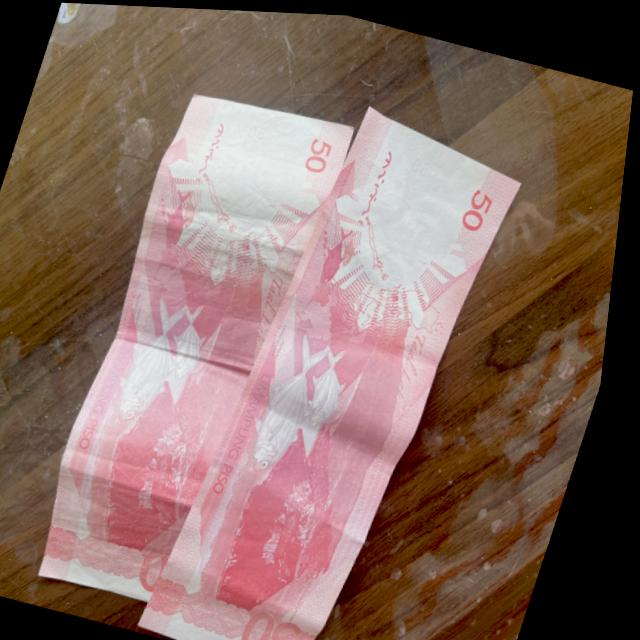50_maliputo: (235, 312, 382, 501), (108, 257, 243, 445)
50_maliputo_watermark: (147, 173, 209, 259), (316, 214, 365, 289)
value_watermark: (405, 142, 448, 184)
watermark: (344, 141, 493, 300)
